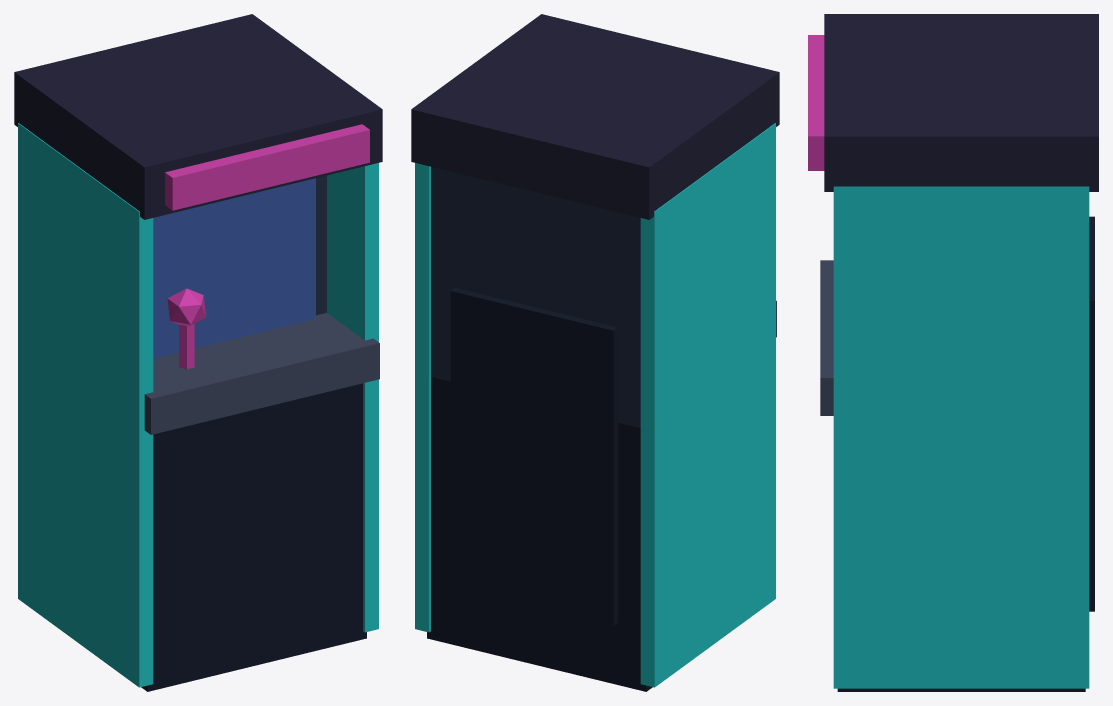
Rendered from Neon_ArcadeCabinet_Simple.glb.
3 views of the same model, side by side, from view 1: azimuth 30°, elevation 25°; view 2: azimuth 150°, elevation 25°; view 3: azimuth 270°, elevation 25° (orthographic). The views are drawn at different scales.
Parts seen in each view (by area): view 1: Neon_ArcadeCabinet_Simple; view 2: Neon_ArcadeCabinet_Simple; view 3: Neon_ArcadeCabinet_Simple.
Boxes of the visible parts, x1,y1,x2,y2 form: Neon_ArcadeCabinet_Simple: (14, 14, 382, 691); Neon_ArcadeCabinet_Simple: (411, 14, 779, 691); Neon_ArcadeCabinet_Simple: (808, 14, 1098, 691).
Bounding box in the file's own units: 0.765 × 1.62 × 0.7625.
